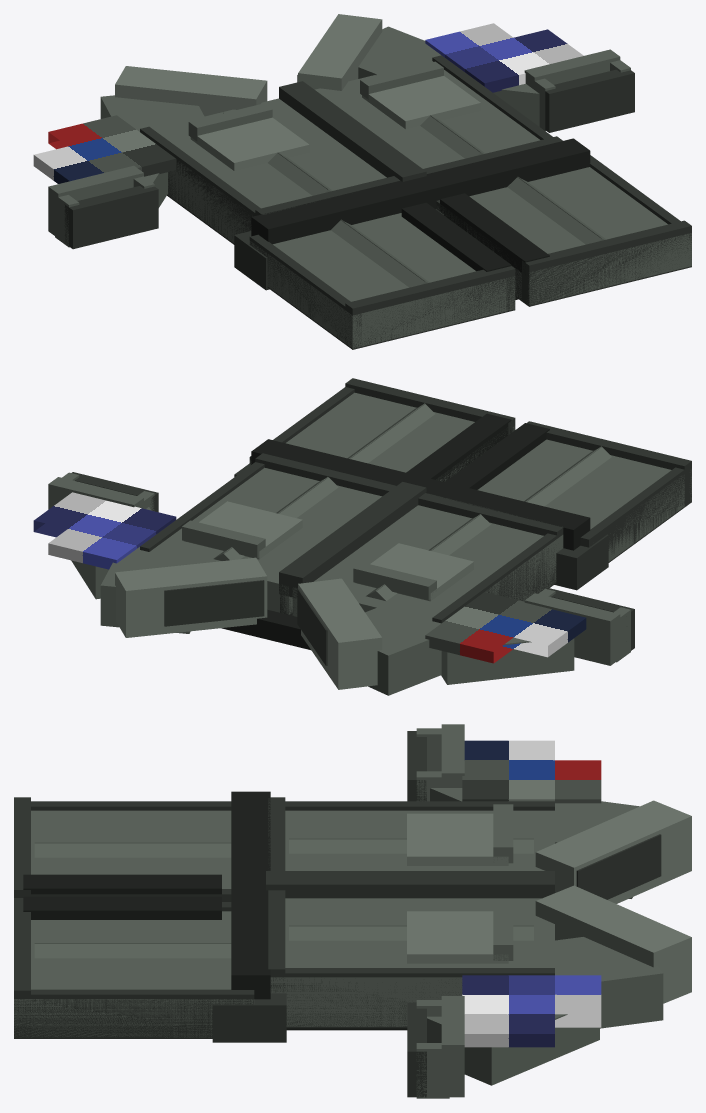
The model's file is CMU3DAU14USASFSecForUniformWorldCloud.glb.
3 renders of one model, top to bottom at view 1: azimuth 30°, elevation 25°; view 2: azimuth 150°, elevation 25°; view 3: azimuth 270°, elevation 25°, orthographic. The views are drawn at different scales.
Parts seen in each view (by area): view 1: left folded trouser leg continuous woven panel, right folded trouser leg continuous woven panel, left tailored front continuous woven panel, waist belt, right folded trouser leg lower turned hem, right tailored front continuous woven panel, original left shoulder red white blue insignia, original right shoulder blue white marking, left turned collar leaf, left folded trouser leg lower turned hem, center shirt placket, left cuff lower turned lip (+27 smaller); view 2: left tailored front continuous woven panel, left folded trouser leg continuous woven panel, right tailored front continuous woven panel, original left shoulder red white blue insignia, right folded trouser leg continuous woven panel, original right shoulder blue white marking, right turned collar leaf, waist belt, left turned collar leaf, left broad connected shoulder, center shirt placket, left folded trouser leg left bound seam (+29 smaller); view 3: right tailored front continuous woven panel, right folded trouser leg continuous woven panel, left folded trouser leg continuous woven panel, right folded trouser leg right bound seam, original right shoulder blue white marking, left tailored front continuous woven panel, center shirt placket, waist belt, original left shoulder red white blue insignia, right turned collar leaf, left turned collar leaf, right broad connected shoulder (+29 smaller).
Boxes of the visible parts, bbox=[...] form: left folded trouser leg continuous woven panel: bbox=[249, 213, 515, 348]; right folded trouser leg continuous woven panel: bbox=[436, 167, 691, 304]; left tailored front continuous woven panel: bbox=[153, 98, 386, 243]; waist belt: bbox=[251, 138, 590, 244]; right folded trouser leg lower turned hem: bbox=[522, 220, 691, 306]; right tailored front continuous woven panel: bbox=[315, 61, 540, 168]; original left shoulder red white blue insignia: bbox=[33, 115, 176, 183]; original right shoulder blue white marking: bbox=[425, 23, 583, 92]; left turned collar leaf: bbox=[115, 66, 267, 116]; left folded trouser leg lower turned hem: bbox=[345, 266, 515, 348]; center shirt placket: bbox=[279, 81, 426, 181]; left cuff lower turned lip: bbox=[64, 186, 158, 249]; left tailored front continuous woven panel: bbox=[292, 505, 563, 620]; left folded trouser leg continuous woven panel: bbox=[478, 439, 691, 561]; right tailored front continuous woven panel: bbox=[149, 467, 381, 614]; original left shoulder red white blue insignia: bbox=[425, 592, 586, 663]; right folded trouser leg continuous woven panel: bbox=[249, 392, 515, 481]; original right shoulder blue white marking: bbox=[33, 492, 176, 569]; right turned collar leaf: bbox=[115, 557, 267, 637]; waist belt: bbox=[251, 439, 590, 550]; left turned collar leaf: bbox=[298, 578, 382, 689]; left broad connected shoulder: bbox=[365, 596, 445, 695]; center shirt placket: bbox=[279, 482, 426, 598]; left folded trouser leg left bound seam: bbox=[580, 464, 691, 562]; right tailored front continuous woven panel: bbox=[270, 898, 554, 1026]; right folded trouser leg continuous woven panel: bbox=[14, 911, 254, 1037]; left folded trouser leg continuous woven panel: bbox=[31, 810, 231, 888]; right folded trouser leg right bound seam: bbox=[14, 989, 254, 1038]; original right shoulder blue white marking: bbox=[462, 975, 601, 1047]; left tailored front continuous woven panel: bbox=[285, 810, 554, 870]; center shirt placket: bbox=[266, 871, 554, 898]; waist belt: bbox=[231, 791, 270, 999]; original left shoulder red white blue insignia: bbox=[462, 740, 601, 803]; right turned collar leaf: bbox=[535, 885, 691, 1003]; left turned collar leaf: bbox=[535, 800, 691, 903]; right broad connected shoulder: bbox=[515, 937, 663, 1028].
Bounding box in the file's own units: 0.5125 × 0.055 × 0.4583.
Materials: 6 (2 with a texture image).
